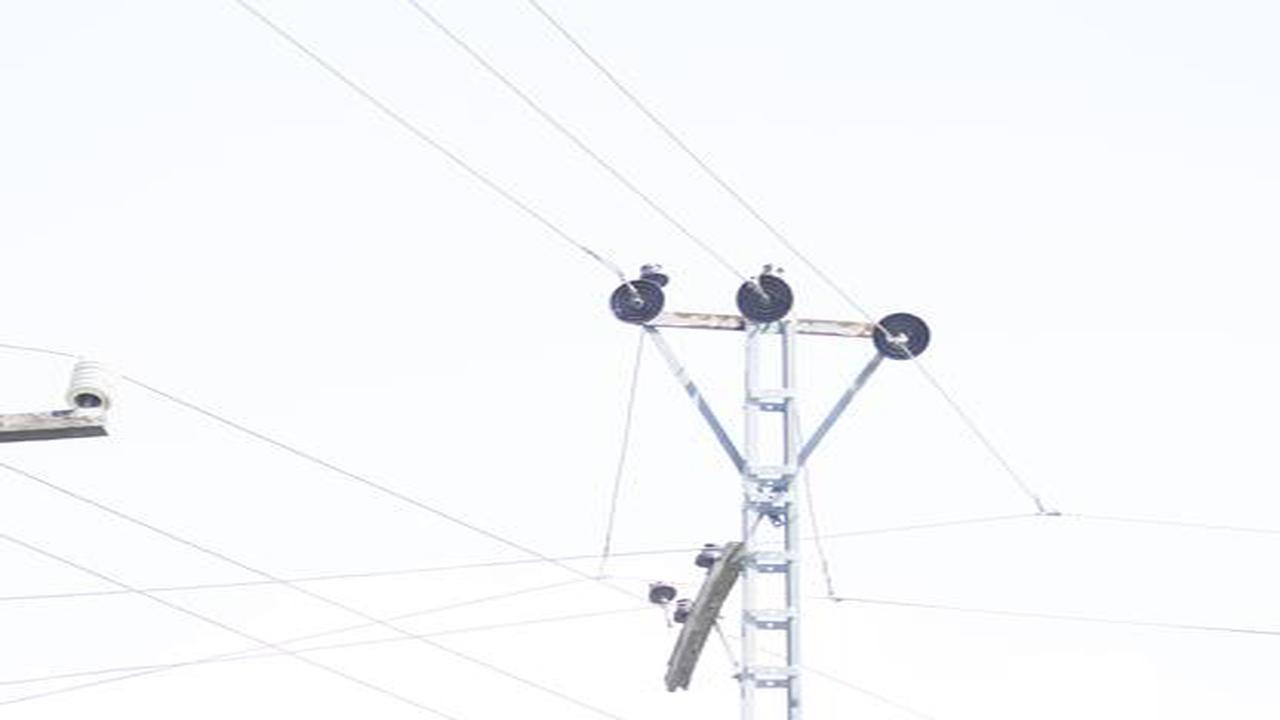insulator_disc: (872, 310, 934, 364), (734, 277, 797, 326), (609, 285, 666, 324)
insulator_pin: (642, 573, 681, 606), (690, 541, 726, 571), (638, 256, 672, 283)
